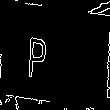P_N: (45, 28, 65, 82)
